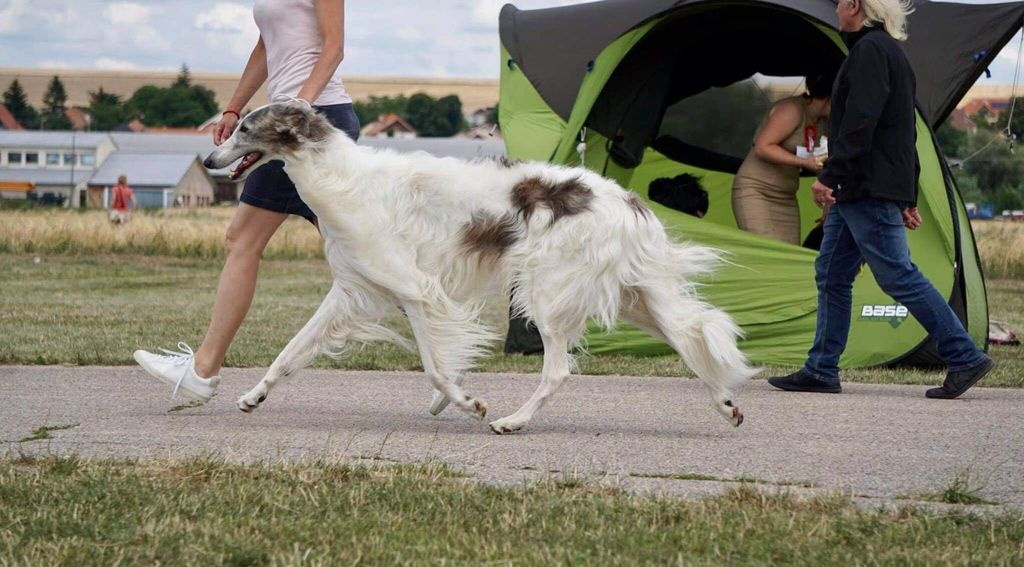borzoi: (187, 88, 773, 450)
